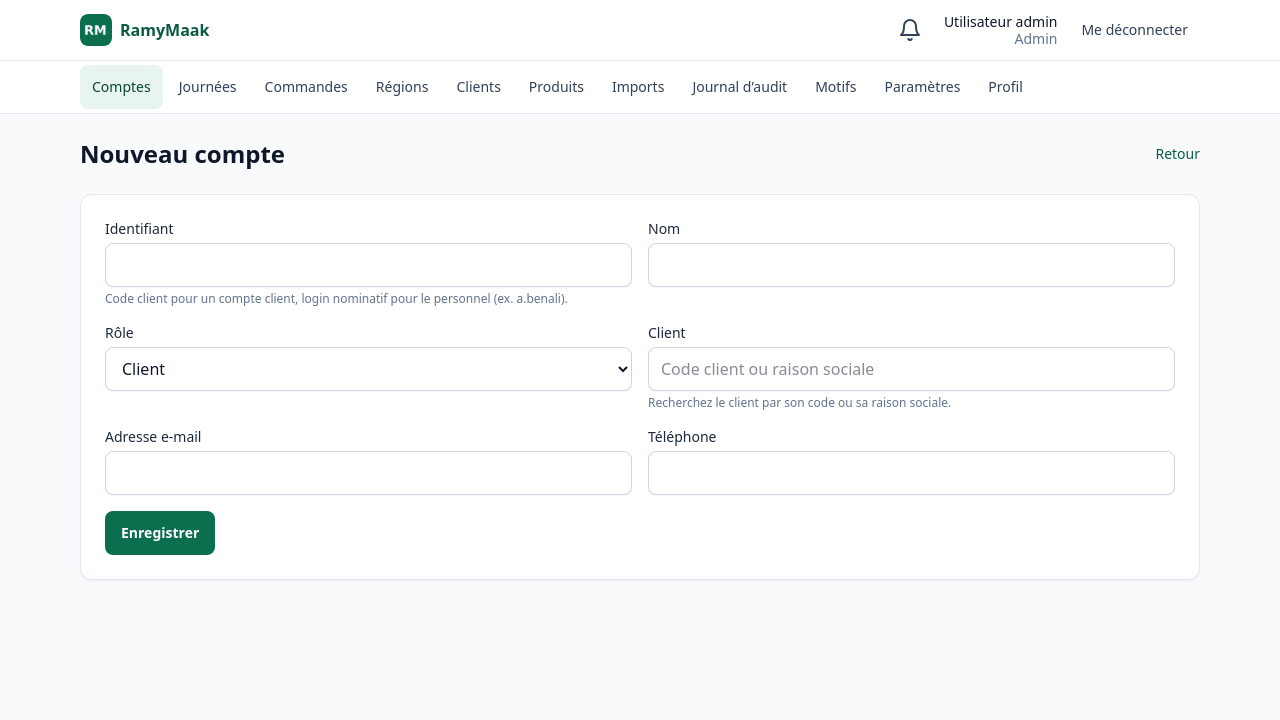
Test: admin — accounts › shows server validation errors on the fields
This screenshot has width=1280, height=720.
Type "c0012" into the field labelled "Identifiant".
click(368, 265); type("c0012")  # box [105, 243, 632, 287]
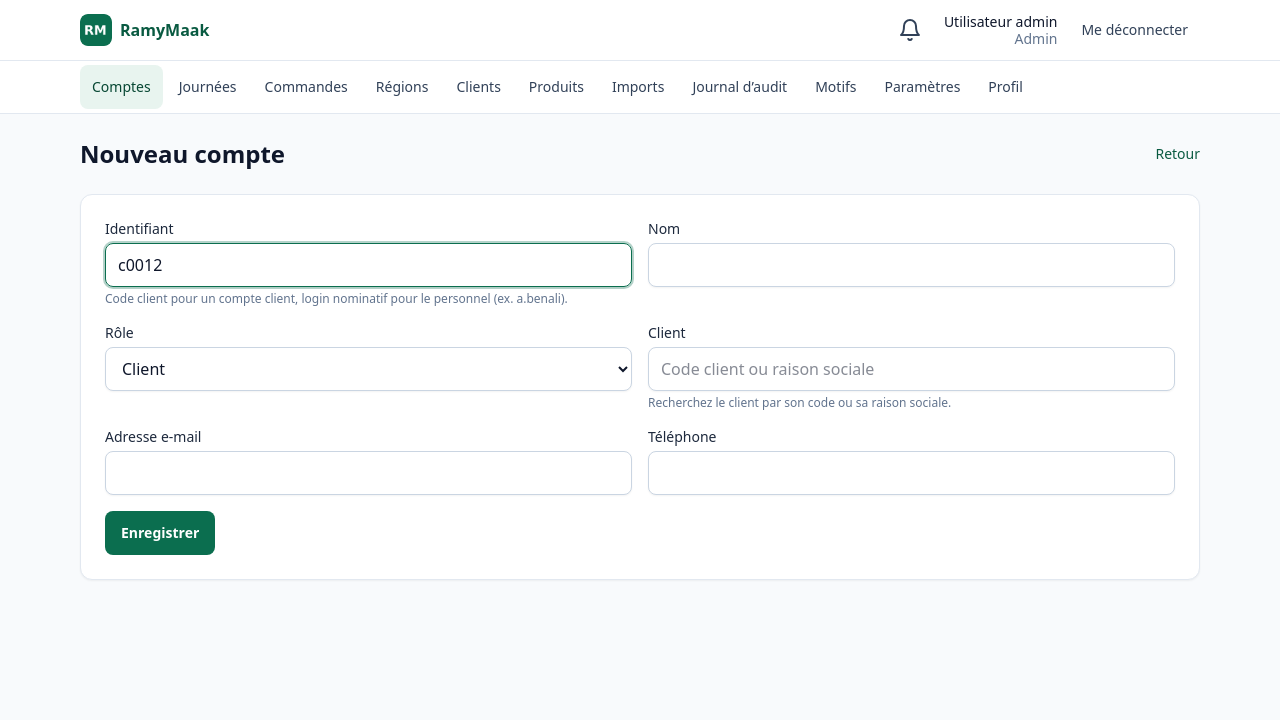
Type "Doublon" into the field labelled "Nom".
click(912, 265); type("Doublon")  # box [648, 243, 1175, 287]
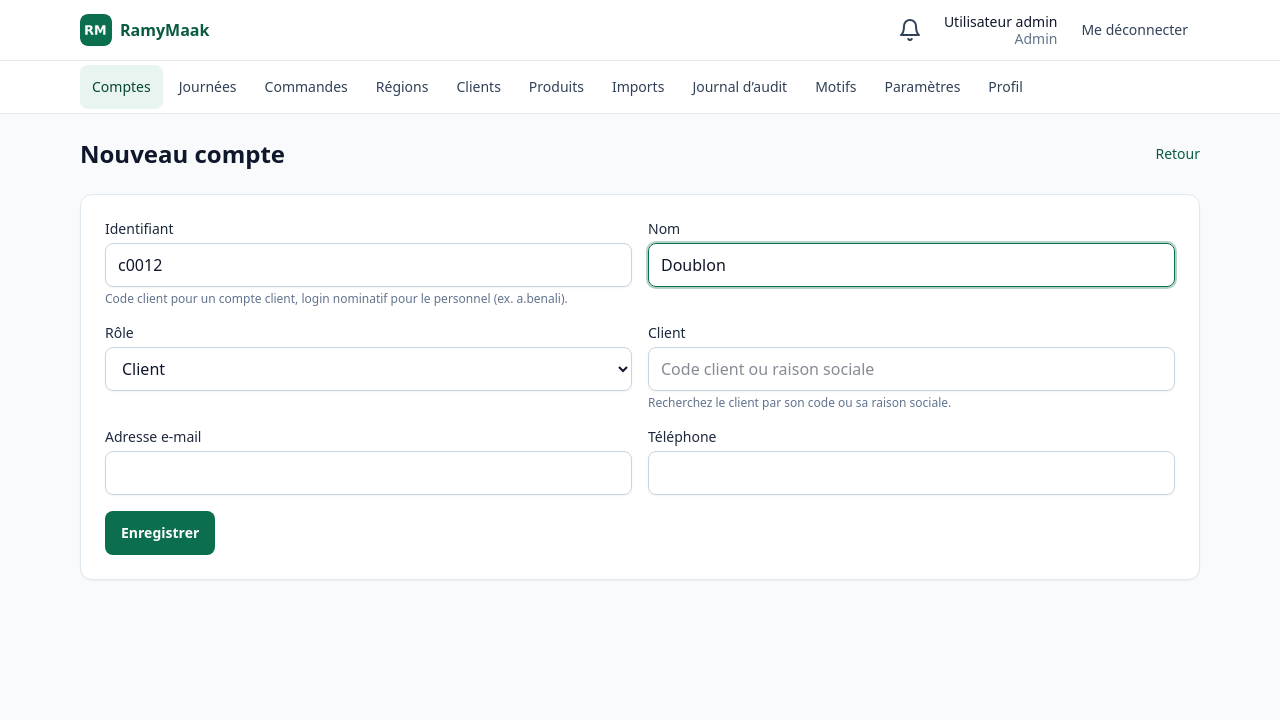
Click the button "Enregistrer".
click(160, 533)  # box [105, 511, 215, 555]
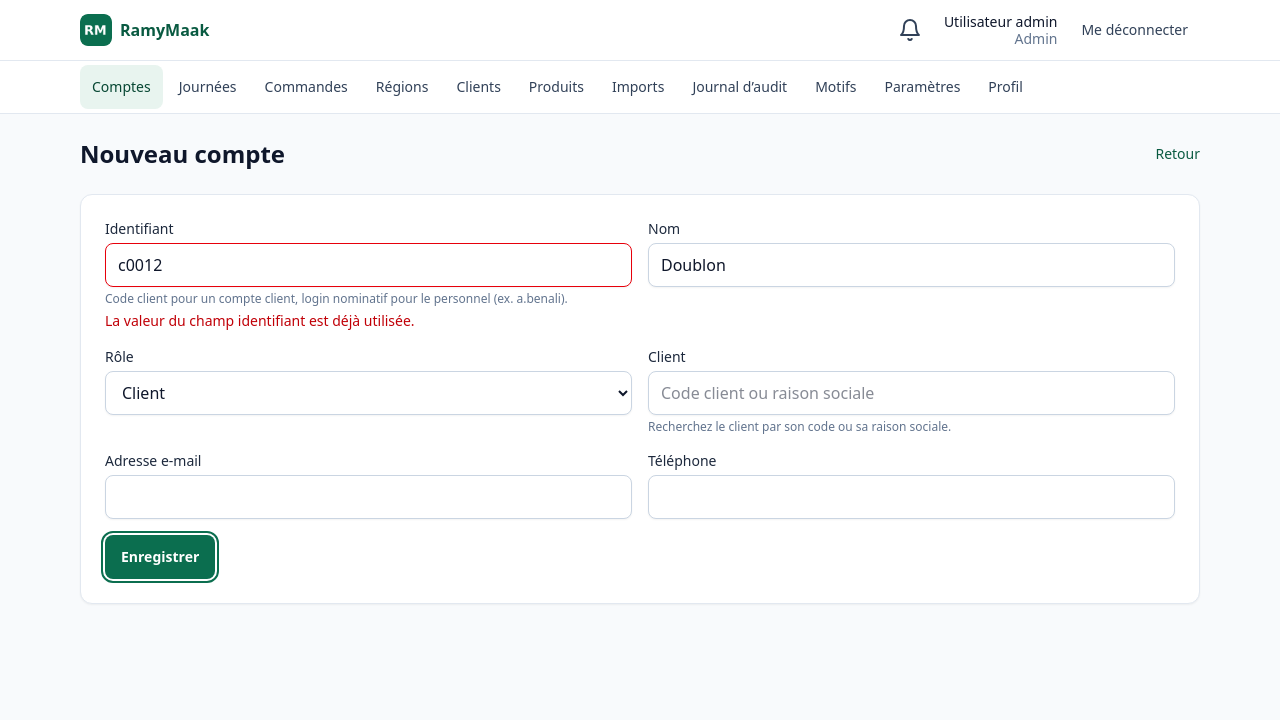
Expected: the text "La valeur du champ identifiant est déjà utilisée." is shown, [105, 311, 415, 330]
